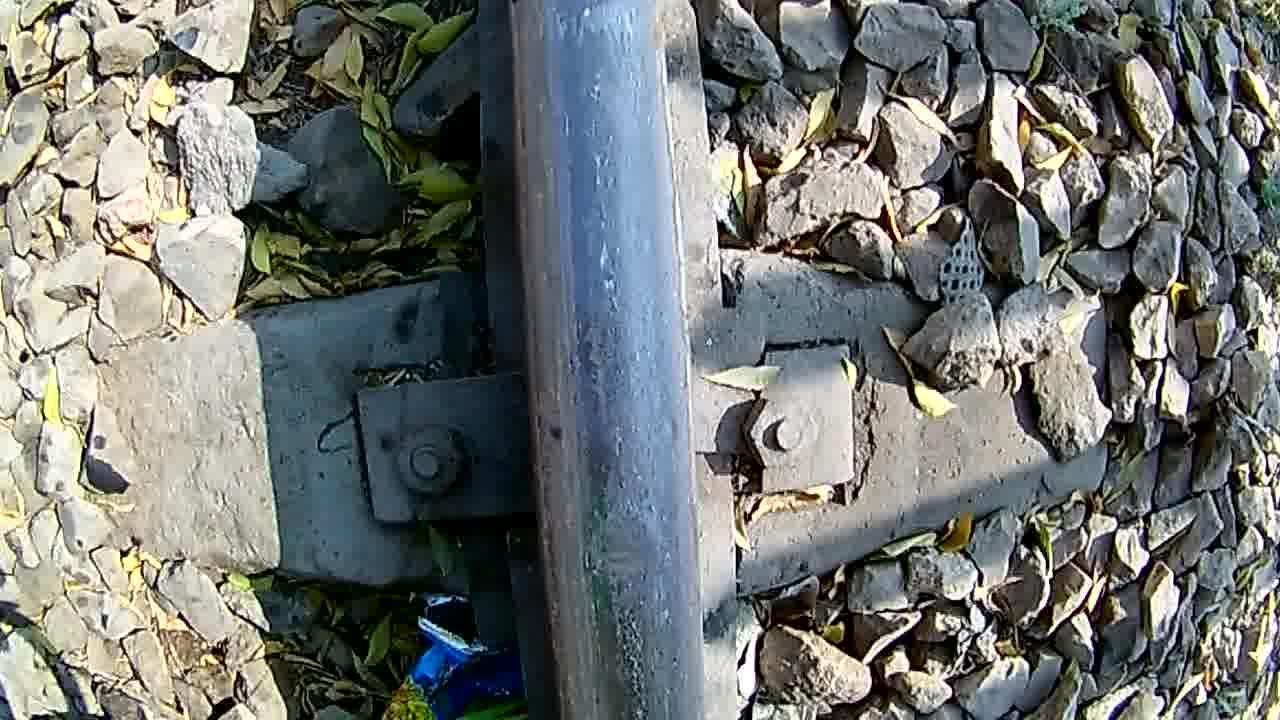crack: (538, 286, 690, 720)
